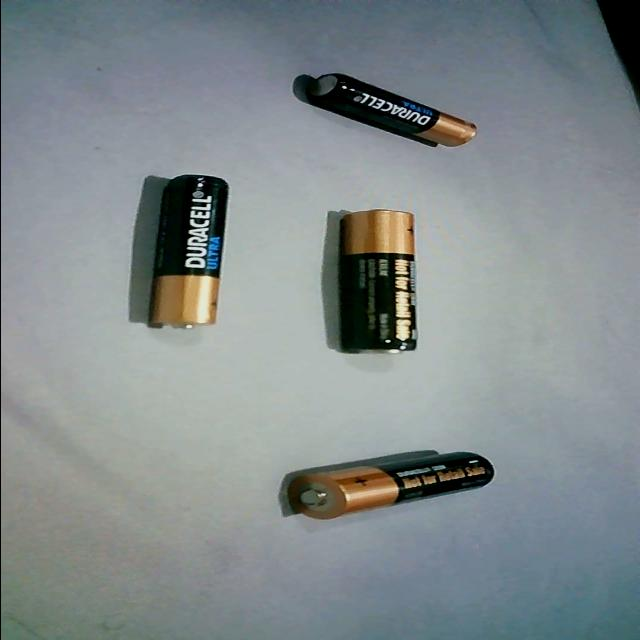AA: (281, 448, 502, 524), (328, 204, 422, 360)
AAA: (132, 172, 238, 336), (301, 70, 483, 152)
